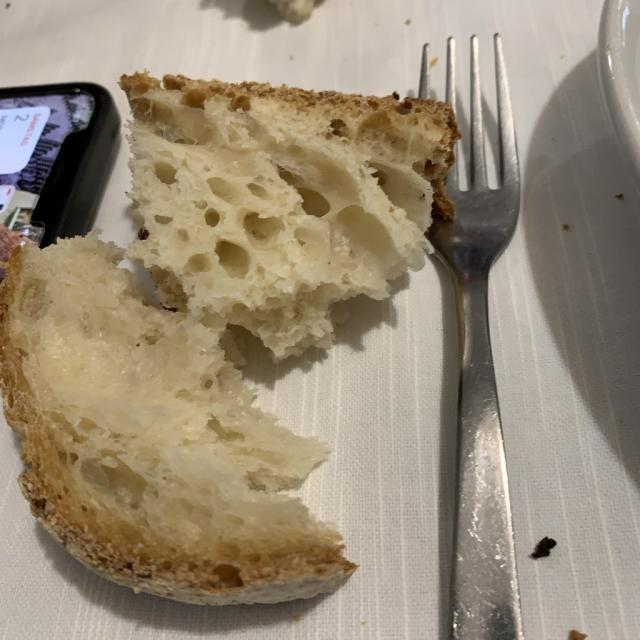bread: (9, 78, 451, 597)
